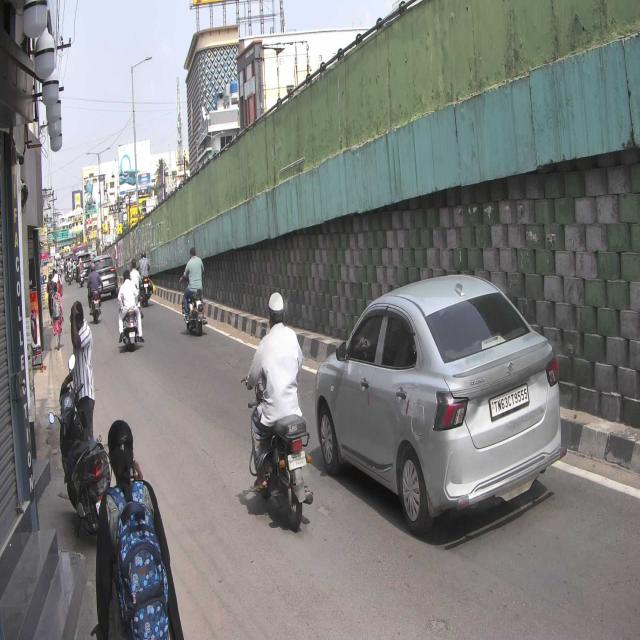single_rider: (244, 289, 314, 527)
